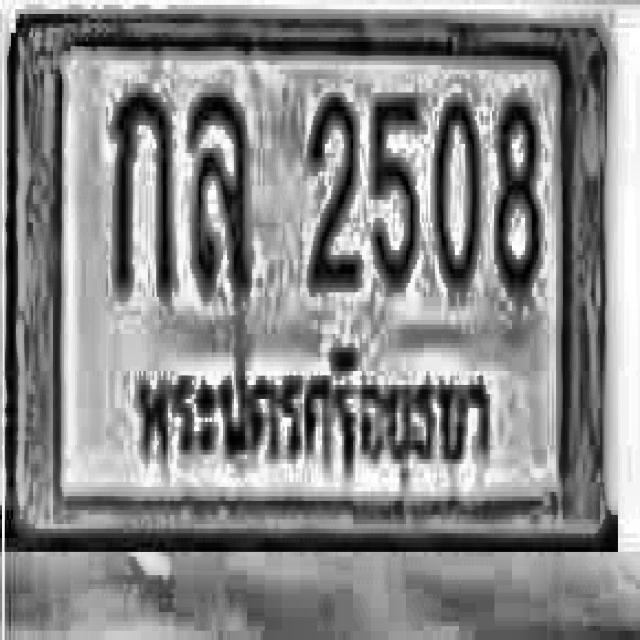license-plate: (0, 0, 616, 547)
